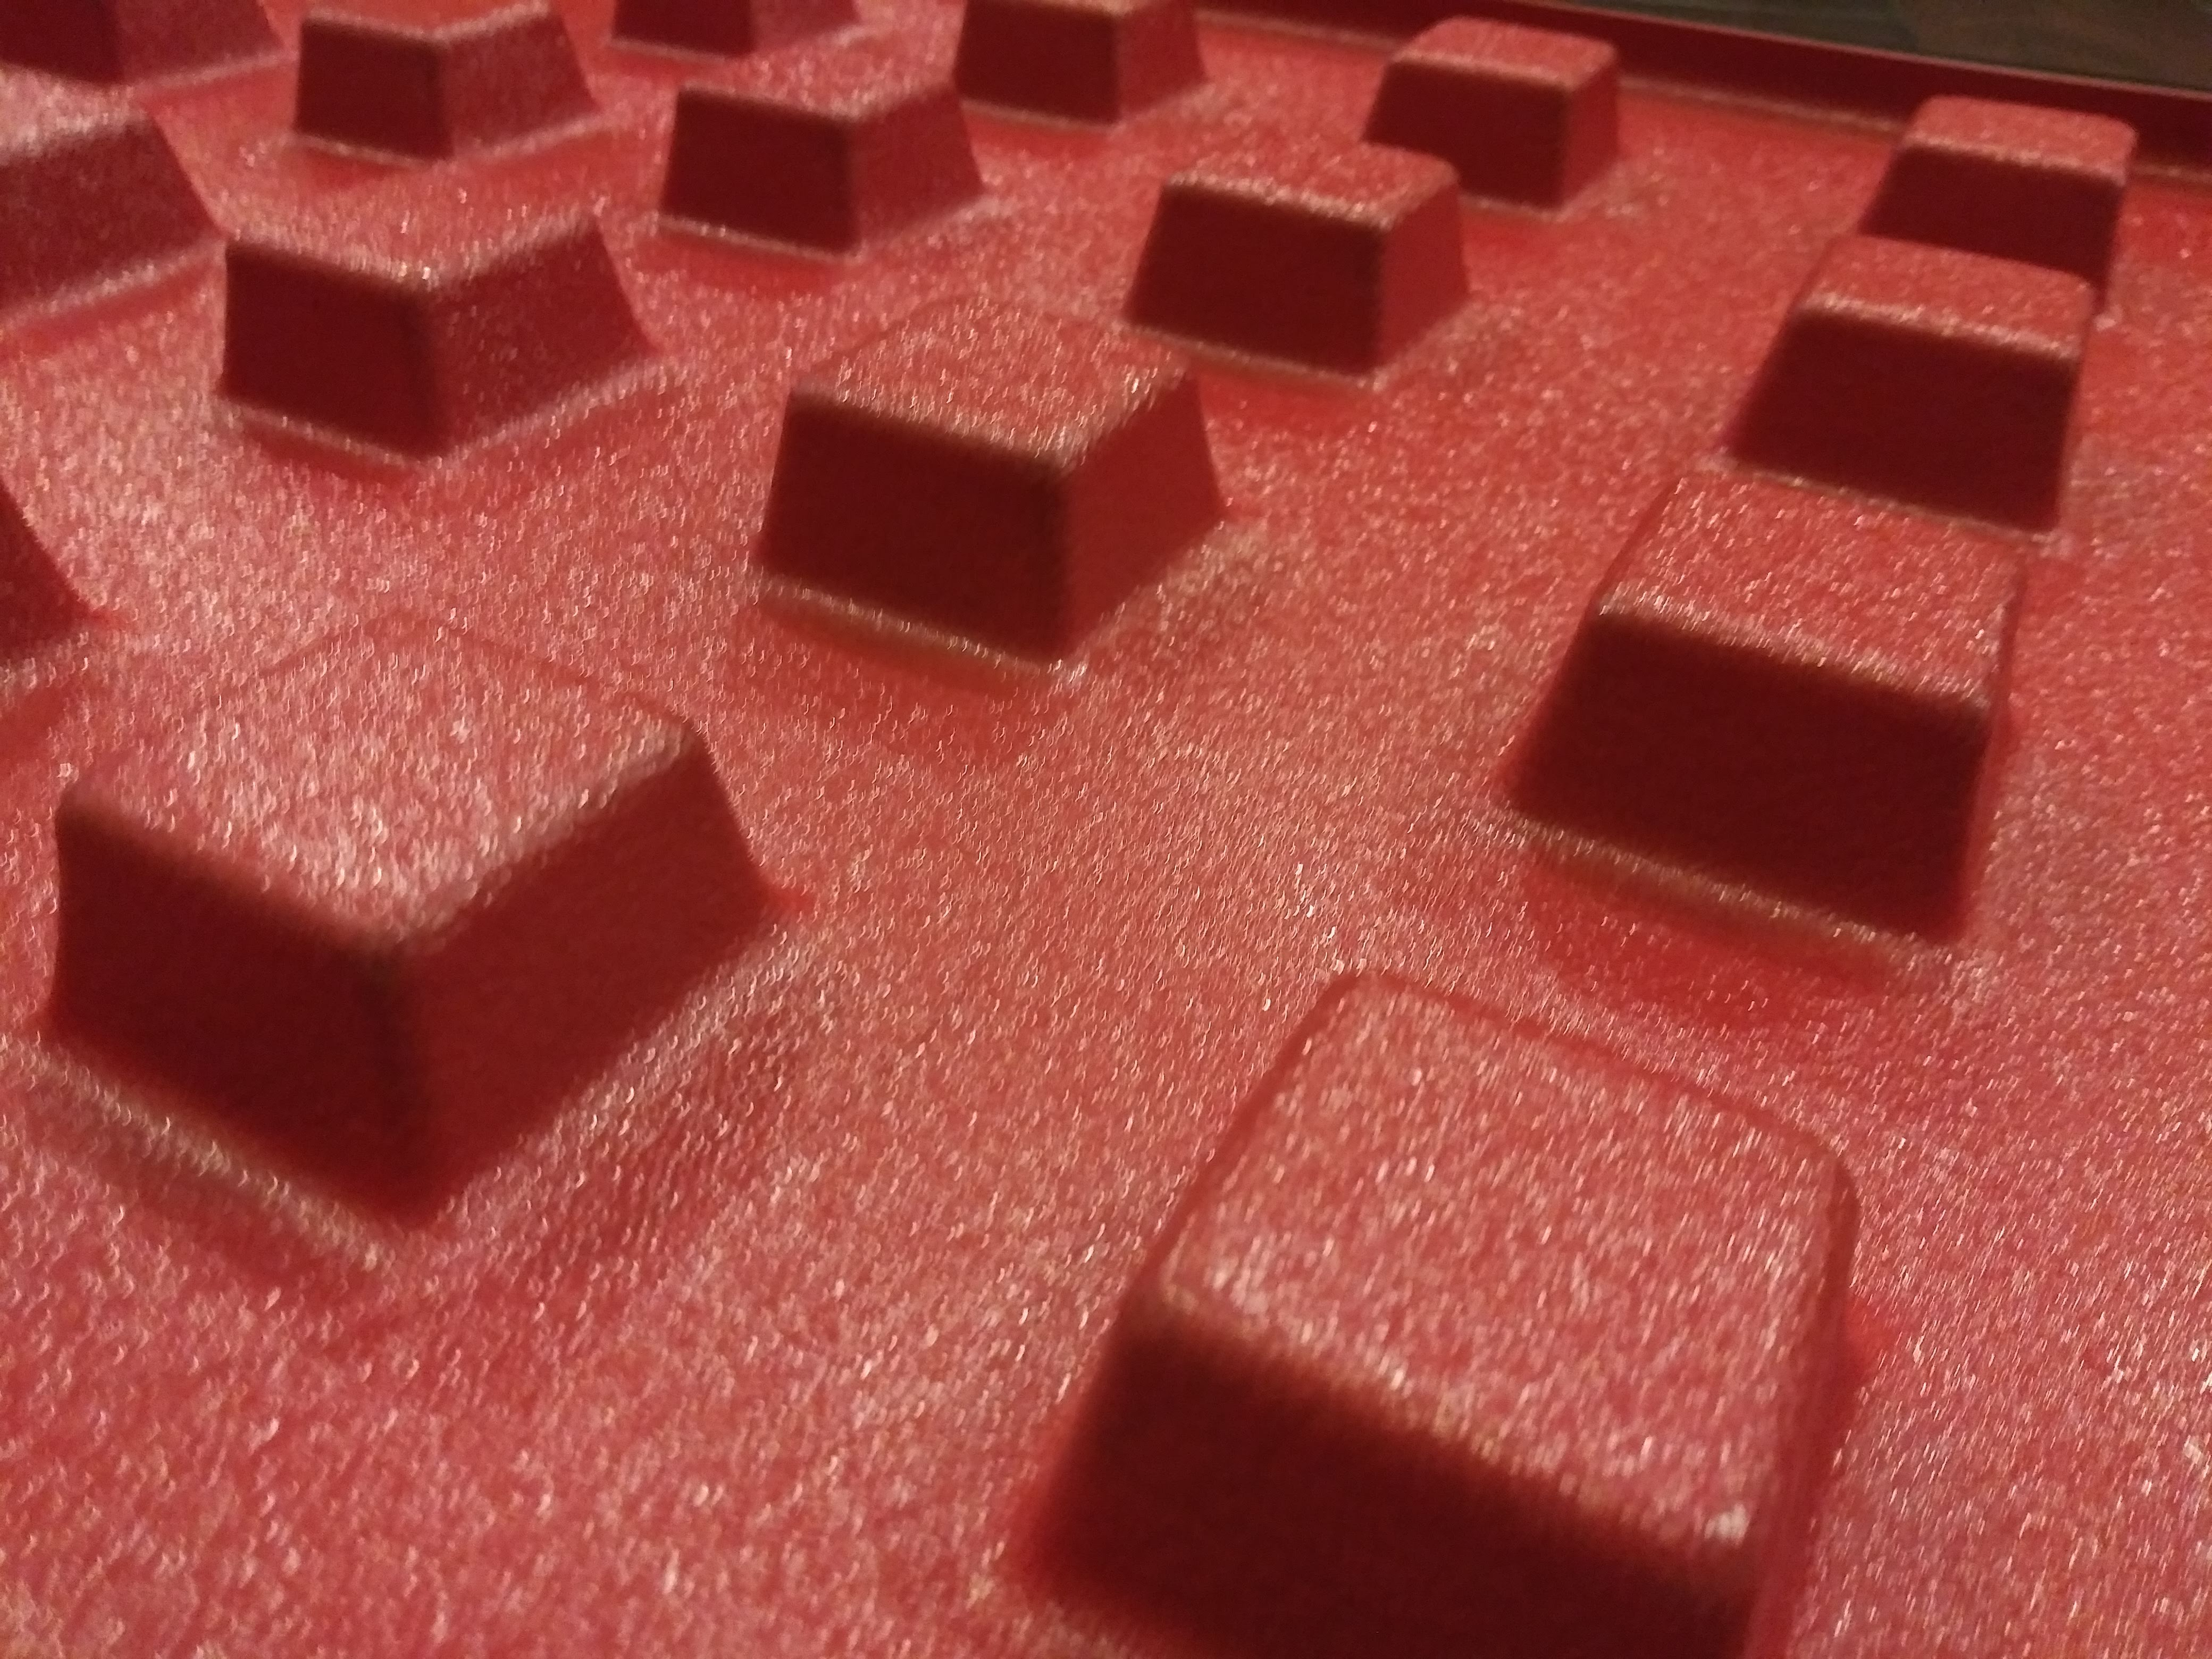red foundation: (51, 28, 2125, 1575)
